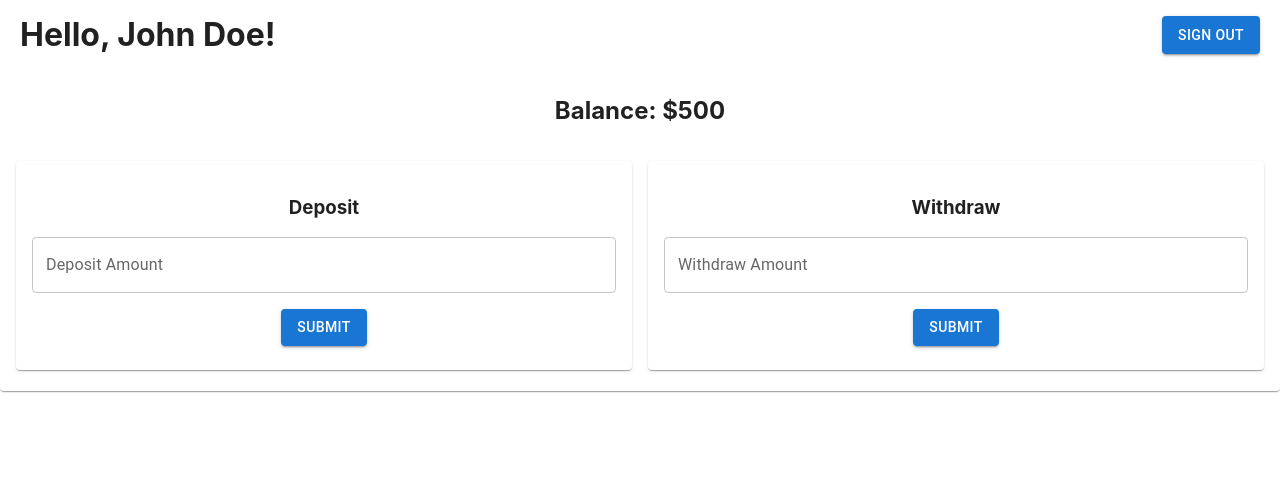
AccountDashboard Component › shows a rejected deposit without changing the account balance
The image size is (1280, 478).
Type "1001" into the number field labelled "Deposit Amount" at (324, 265), box [32,237,616,293]
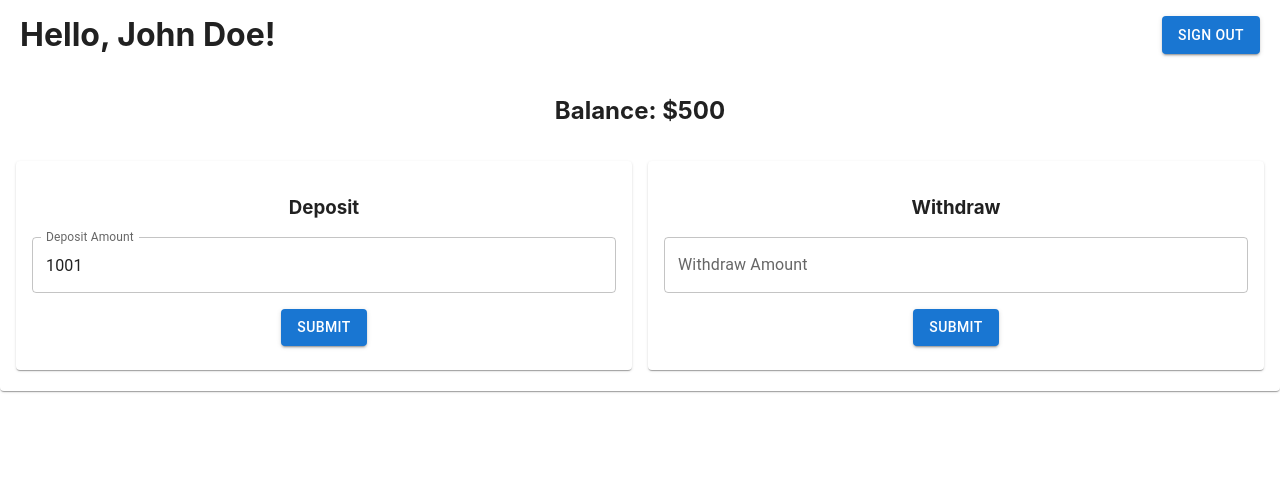
Click the button "Submit" below "Deposit Amount" at (324, 327), box [281,309,367,346]
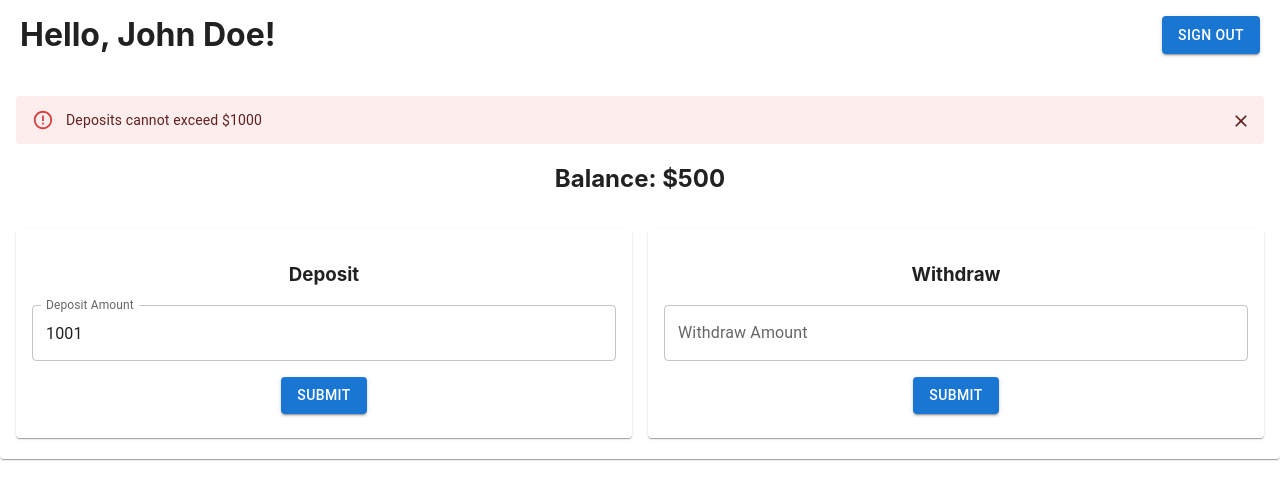
Expected: the heading "Balance: $500" is shown, [555,164,725,193]
Result: the text "Deposits cannot exceed $1000" is shown at [66,112,262,128]
